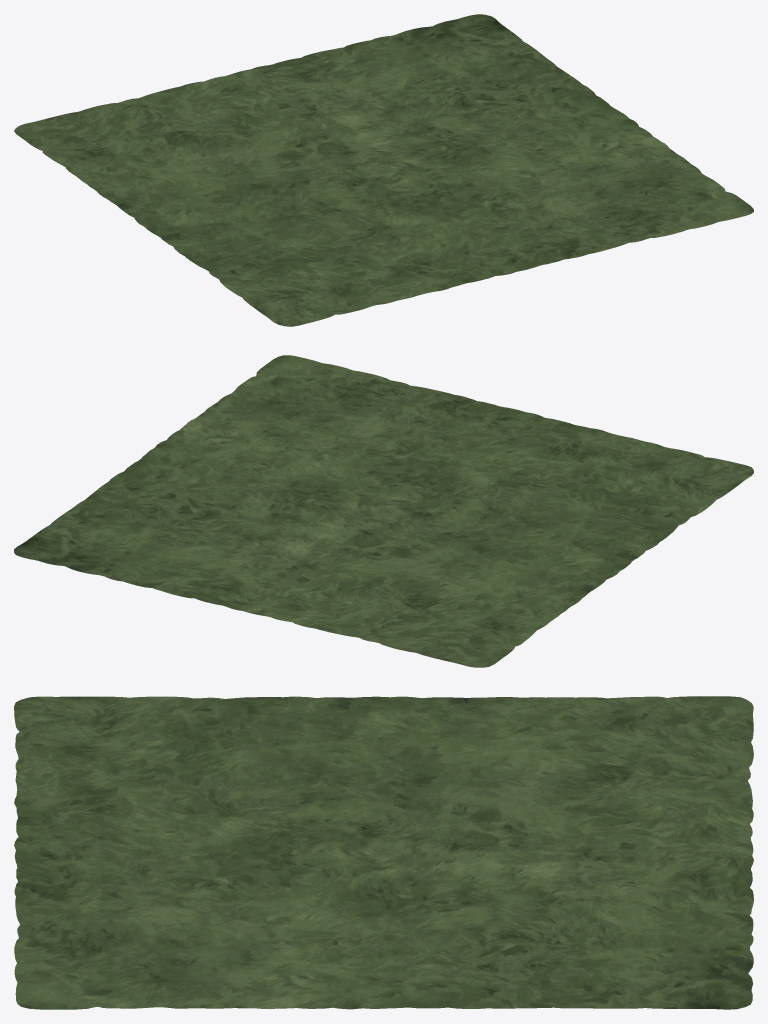
Rendered from RugSquareShaggyL00.glb.
3 renders of one model, top to bottom at view 1: azimuth 30°, elevation 25°; view 2: azimuth 150°, elevation 25°; view 3: azimuth 270°, elevation 25°, orthographic. The views are drawn at different scales.
Parts seen in each view (by area): view 1: Main__mMain; view 2: Main__mMain; view 3: Main__mMain.
Part boxes in pixels (<box>): Main__mMain: <box>14,14,753,326</box>; Main__mMain: <box>14,355,753,667</box>; Main__mMain: <box>14,696,753,1009</box>.
Size of the model in its own units: 49.91 by 0.03 by 49.82.
1 material, 1 textured.
